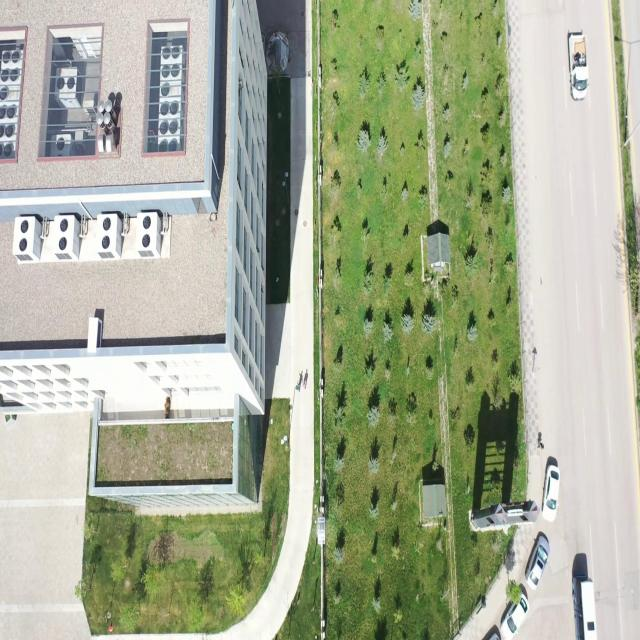p3rson: (296, 380, 302, 392), (540, 442, 545, 450), (302, 381, 306, 389)
